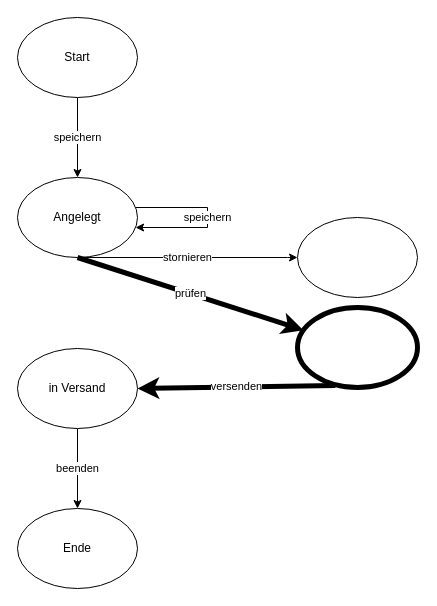
The diagram is 437 pixels wide and 606 high, and some of its shapes have lost their labels. The shapes that lost their labels are listed below. From the top down, each one's centre as x and y in pixels, then its label:
At (x=357, y=257): "Storniert".
At (x=357, y=347): "Geprüft".
